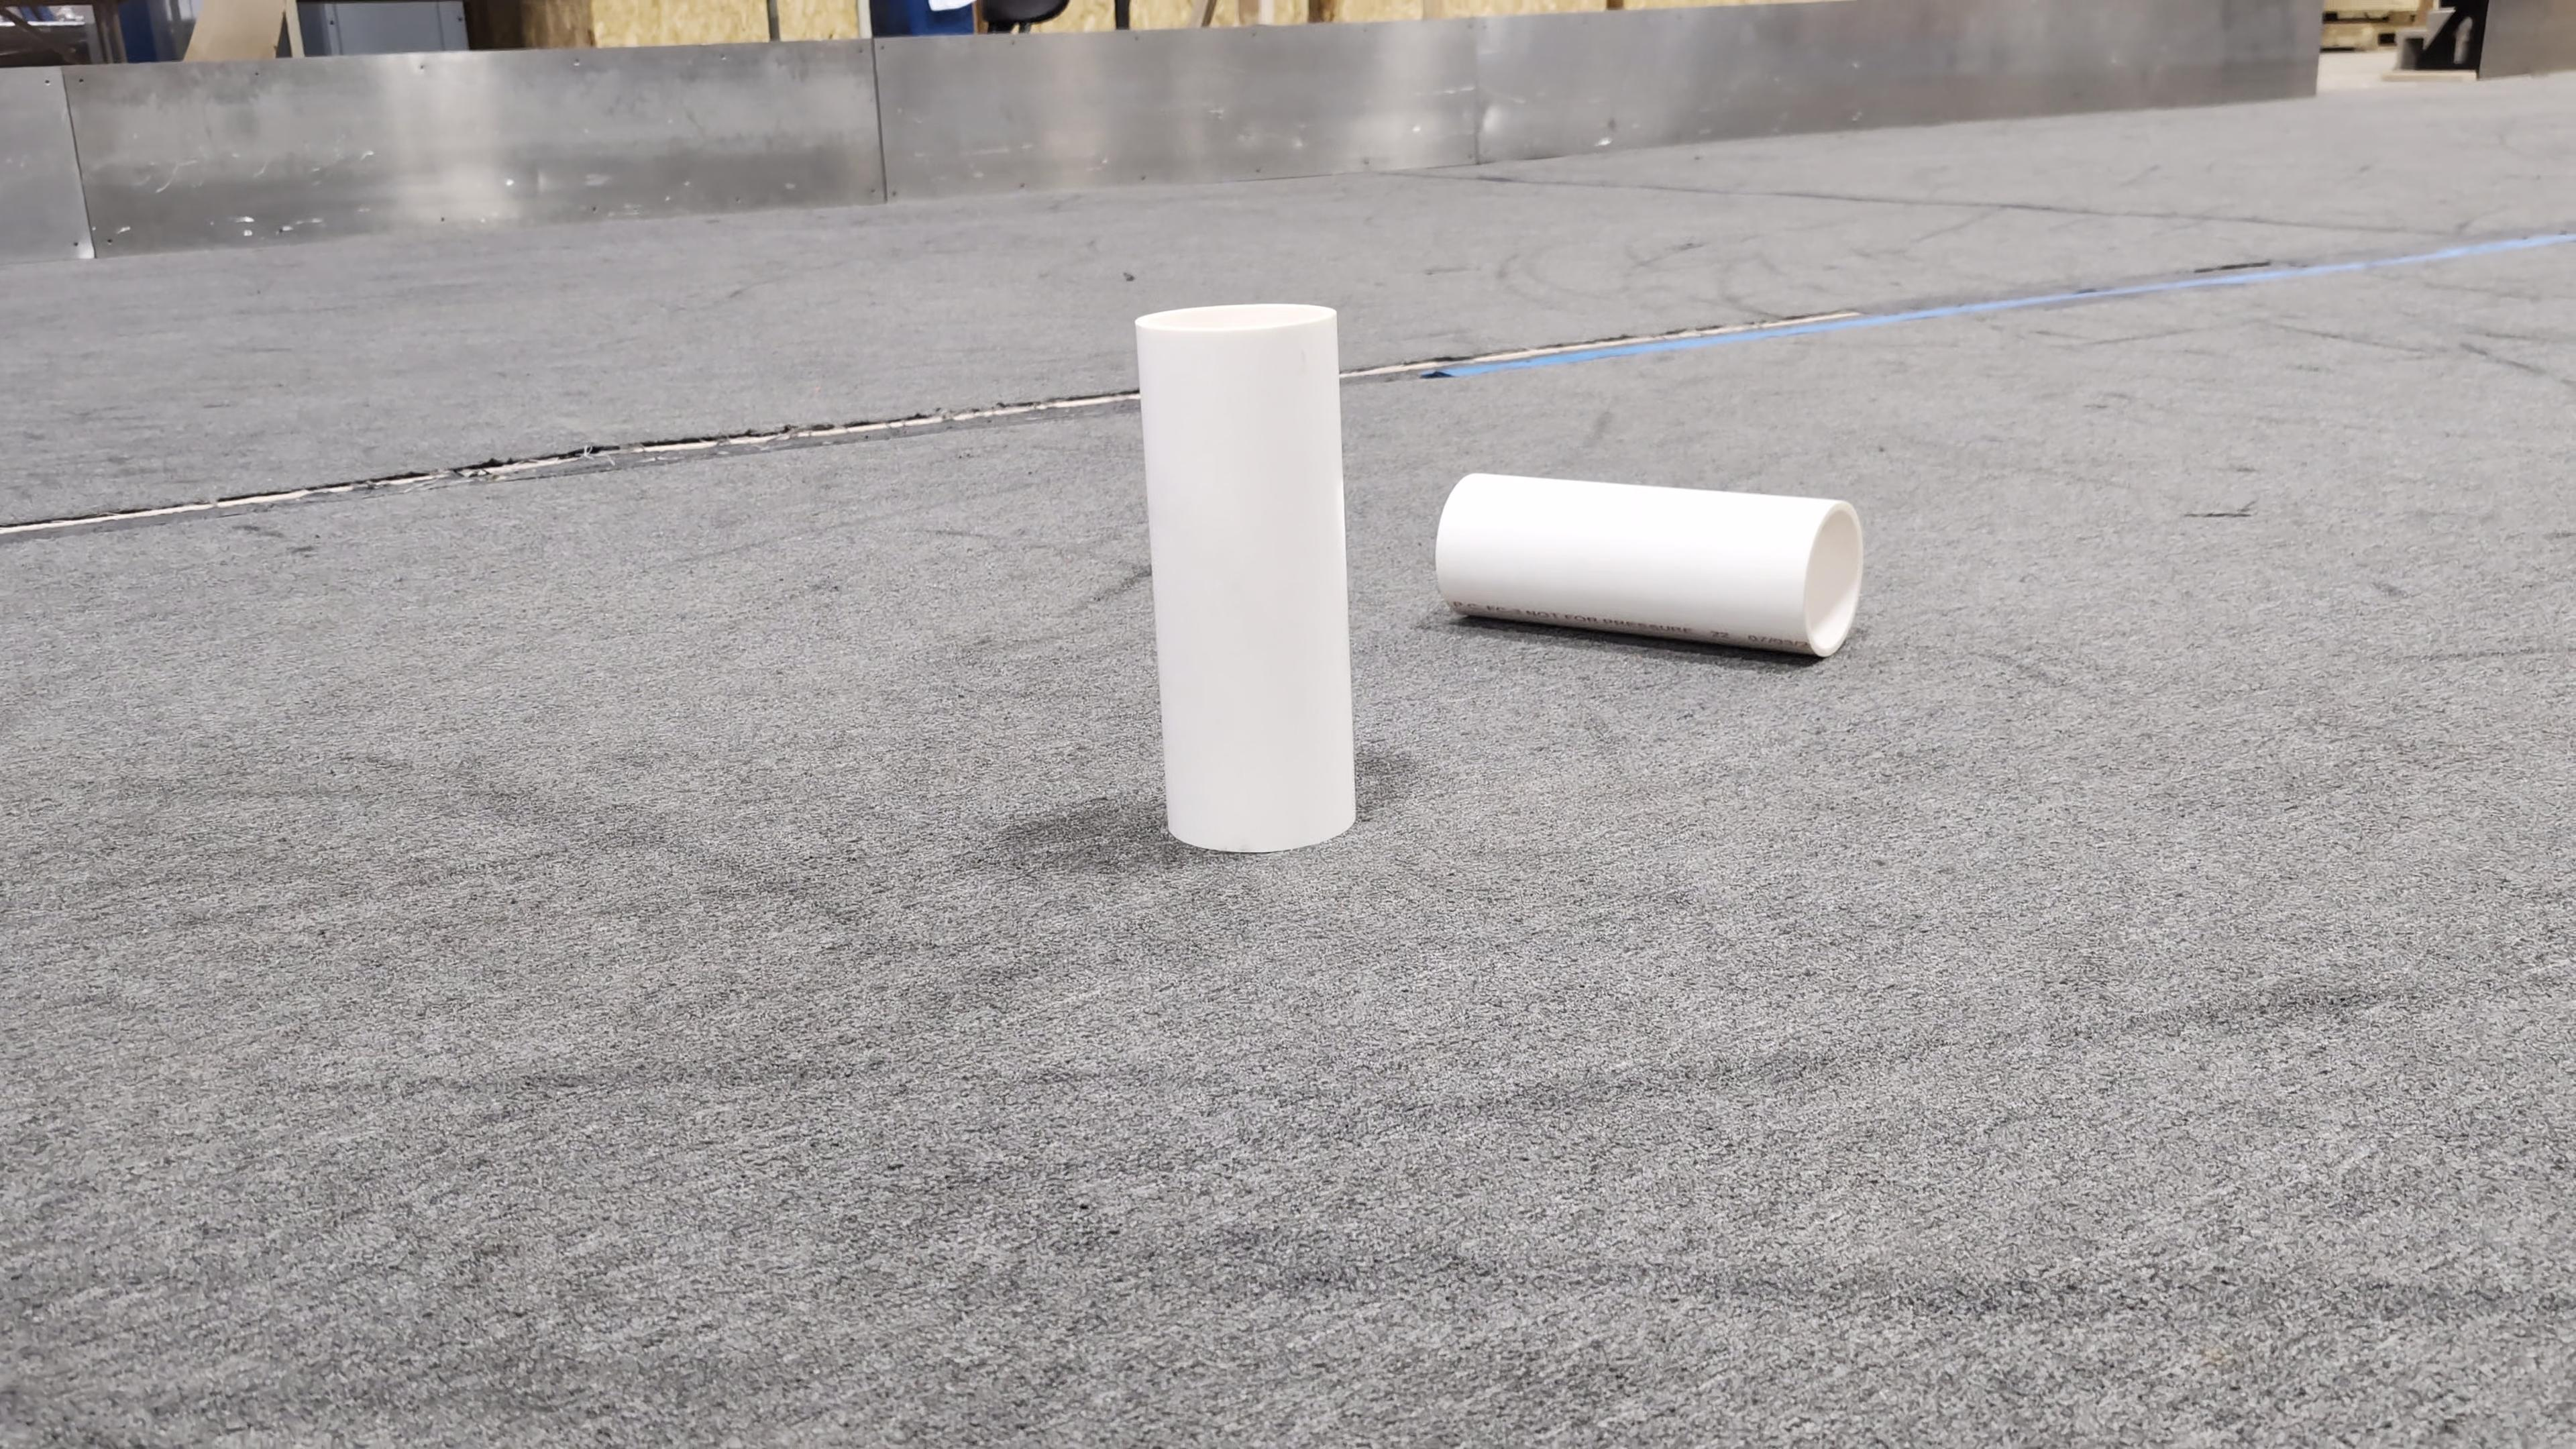coral: (1129, 297, 1357, 849), (1435, 467, 1863, 656)
